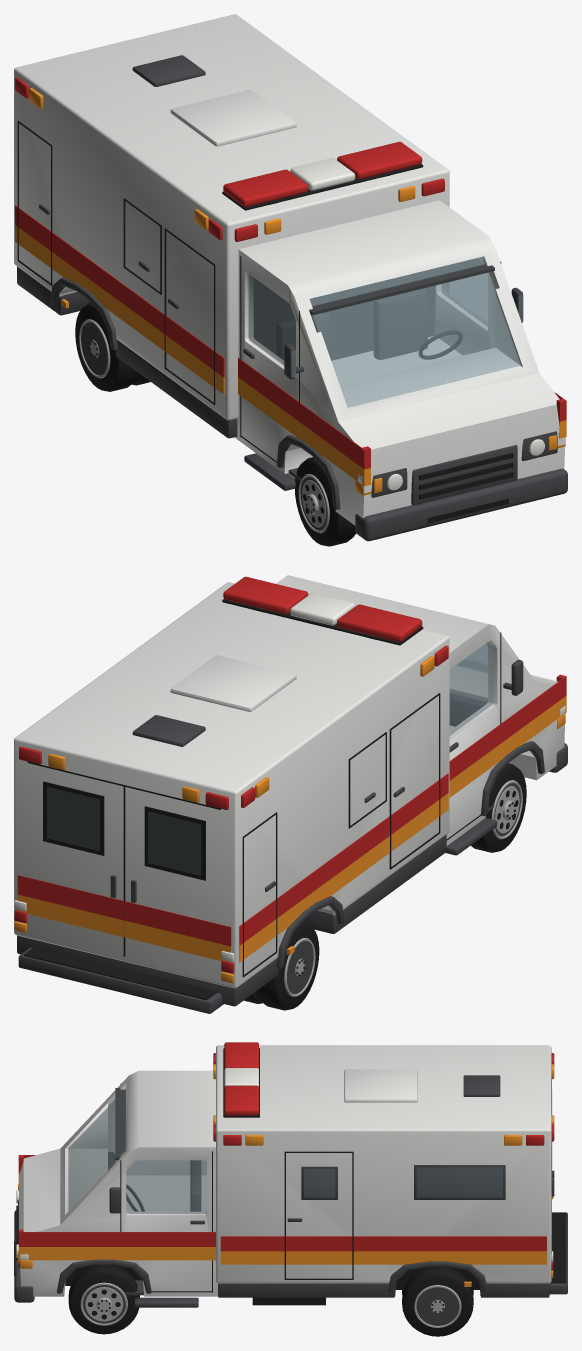
File: Ambulance.fbx
The picture shows the model from 3 angles, top to bottom: view 1: azimuth 30°, elevation 25°; view 2: azimuth 150°, elevation 25°; view 3: azimuth 270°, elevation 25°; orthographic projection. The views are drawn at different scales.
Visible parts, largest first — view 1: Ambulance_Mesh; view 2: Ambulance_Mesh; view 3: Ambulance_Mesh.
Part boxes in pixels (bbox=[...]): Ambulance_Mesh: bbox=[14, 14, 567, 546]; Ambulance_Mesh: bbox=[14, 575, 567, 1013]; Ambulance_Mesh: bbox=[14, 1042, 567, 1336].
Size of the model in its own units: 2.3 by 2.7 by 6.05.
